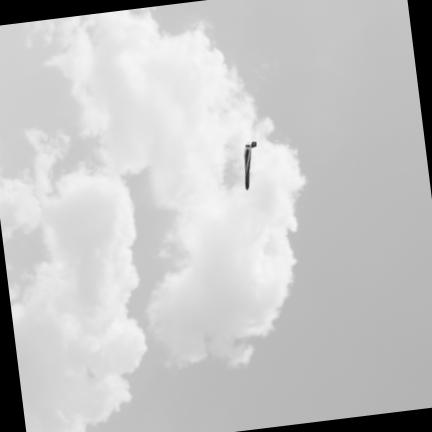Shahed: (242, 141, 256, 189)
